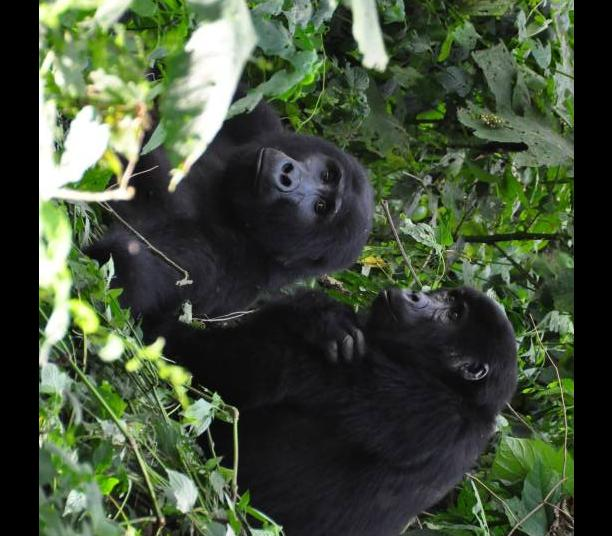goriile_montagne: (200, 274, 550, 536), (98, 99, 401, 334)
